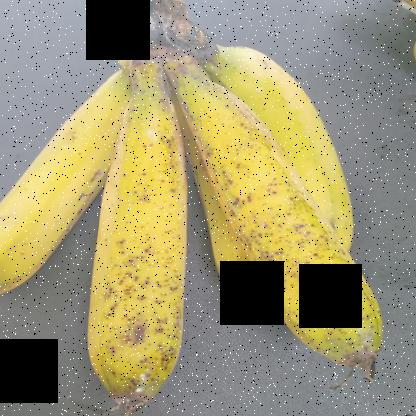ripe: (176, 76, 388, 376), (73, 74, 241, 416)
